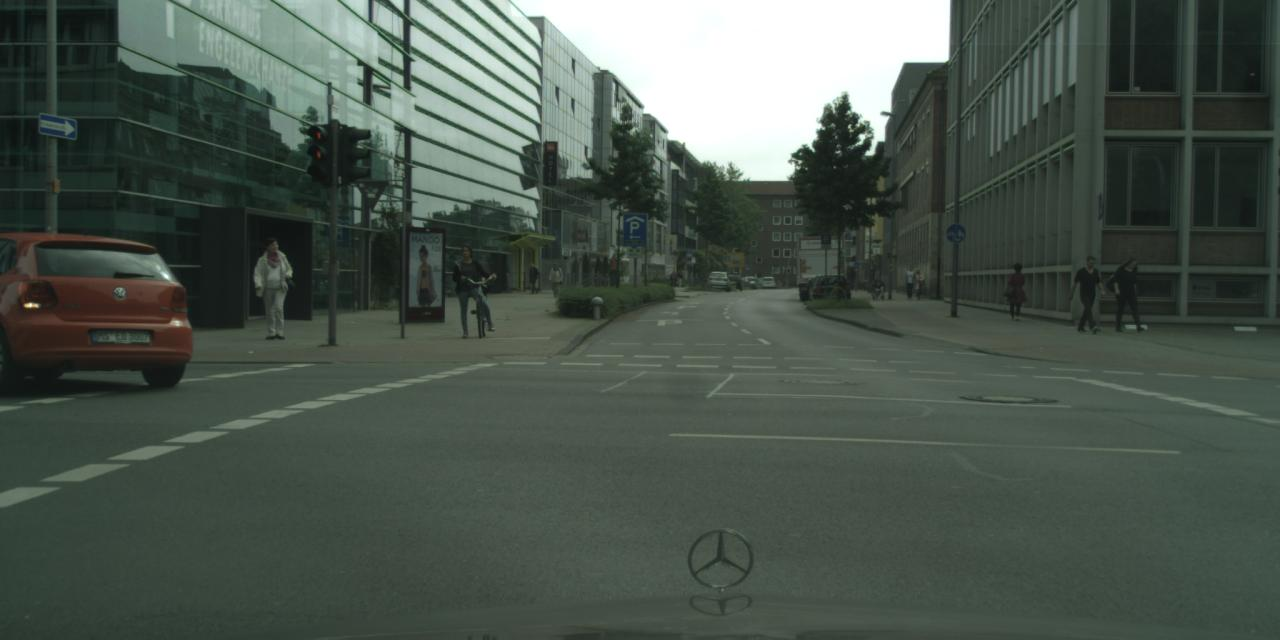ped: (252, 238, 294, 338), (454, 244, 490, 333), (1074, 256, 1105, 332), (1116, 258, 1146, 330), (1005, 262, 1027, 320), (548, 262, 562, 297), (903, 265, 916, 297), (527, 263, 539, 293), (911, 269, 923, 299), (676, 268, 682, 286), (670, 270, 676, 286)
